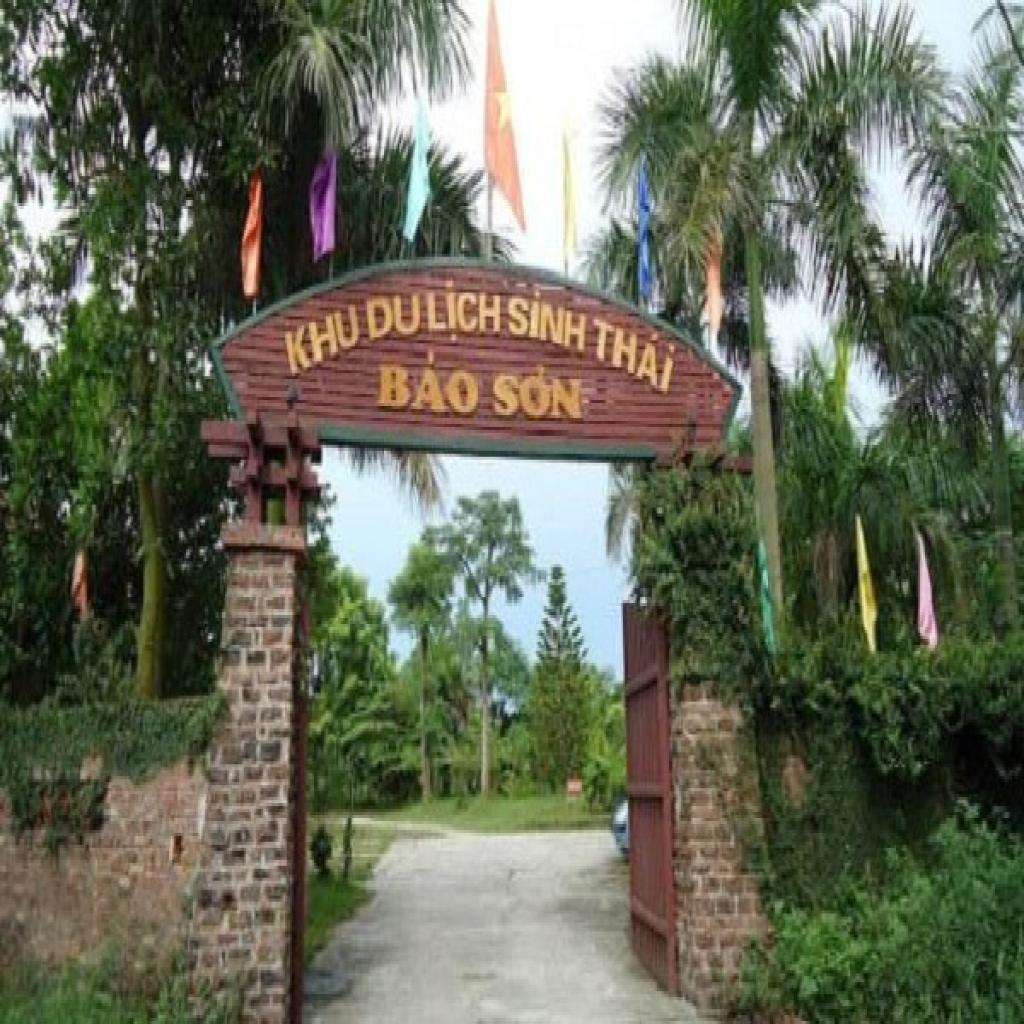text: (374, 346, 483, 427), (592, 311, 683, 406), (278, 299, 367, 385), (505, 281, 591, 361), (427, 281, 505, 346), (362, 290, 425, 346)
